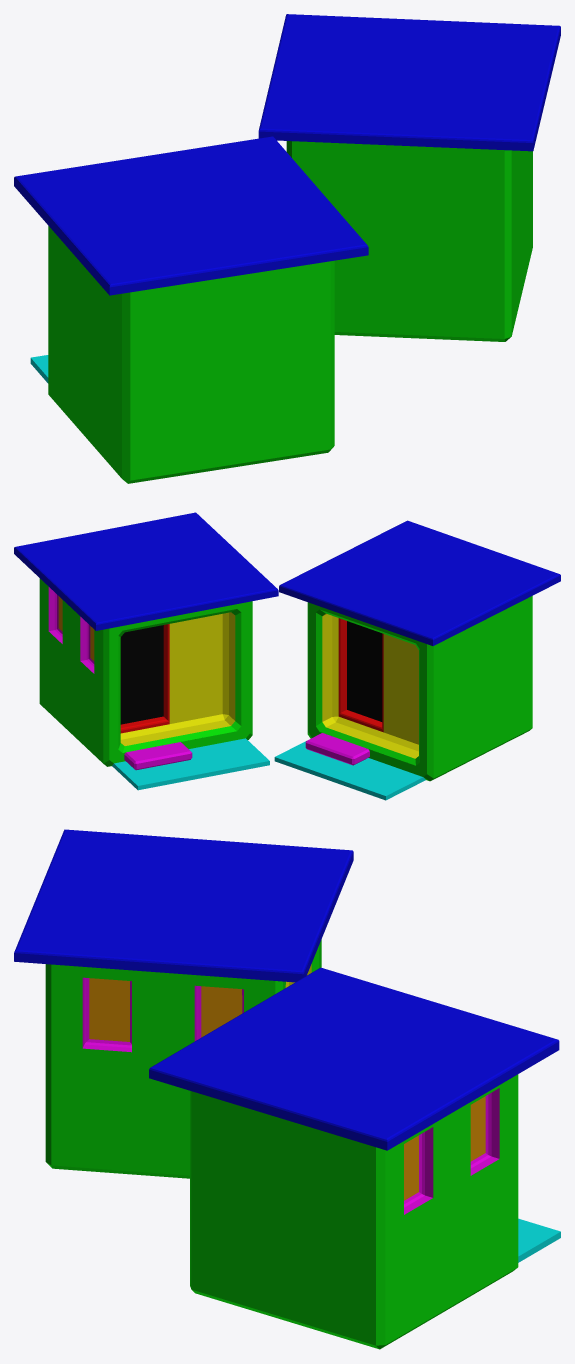
The model's file is GB_Village_House_05.fbx.
3 views of the same model, one above another, from view 1: azimuth 30°, elevation 25°; view 2: azimuth 150°, elevation 25°; view 3: azimuth 270°, elevation 25° (orthographic). The views are drawn at different scales.
Parts seen in each view (by area): view 1: GB_Village_House_05; view 2: GB_Village_House_05; view 3: GB_Village_House_05.
Part boxes in pixels (x1,y1,x2,y2): GB_Village_House_05: (14, 14, 560, 483); GB_Village_House_05: (14, 512, 560, 800); GB_Village_House_05: (14, 829, 560, 1349).
Size of the model in its own units: 120 by 41.14 by 88.18.
